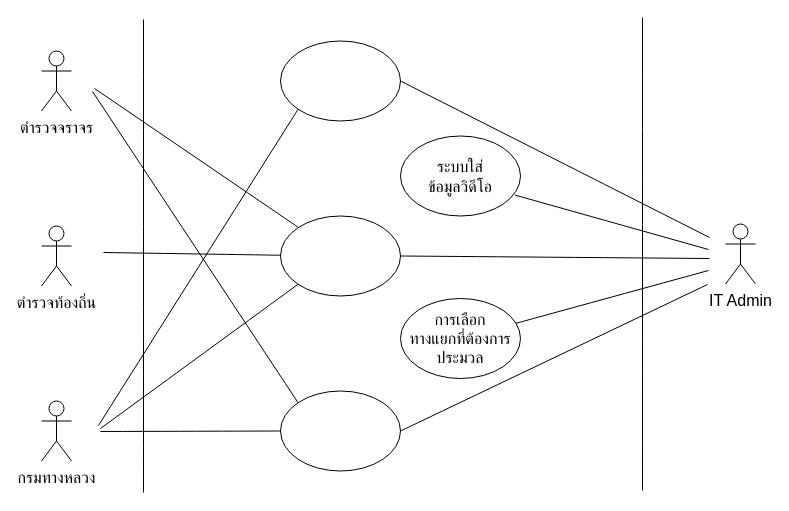
Some shapes in this 789 by 511 pixel diagram are drawn without their labels. Here are the shapes that lost their labels. From the top down, the box of each, then its label:
(280, 40, 400, 121): ระบบแยก ประเภทรถ
(280, 215, 400, 296): ระบบนับ จำนวนรถ
(280, 390, 400, 471): ระบบดู ทิศทางรถ
